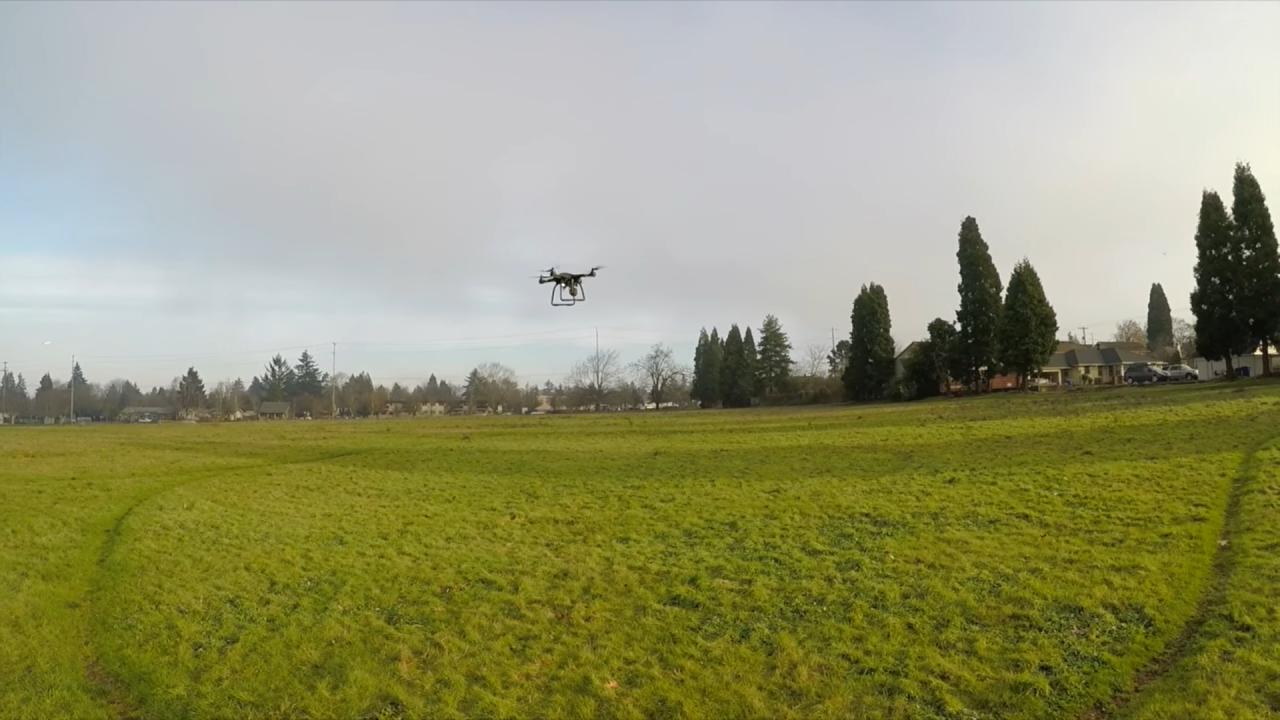Drone: (526, 259, 622, 313)
